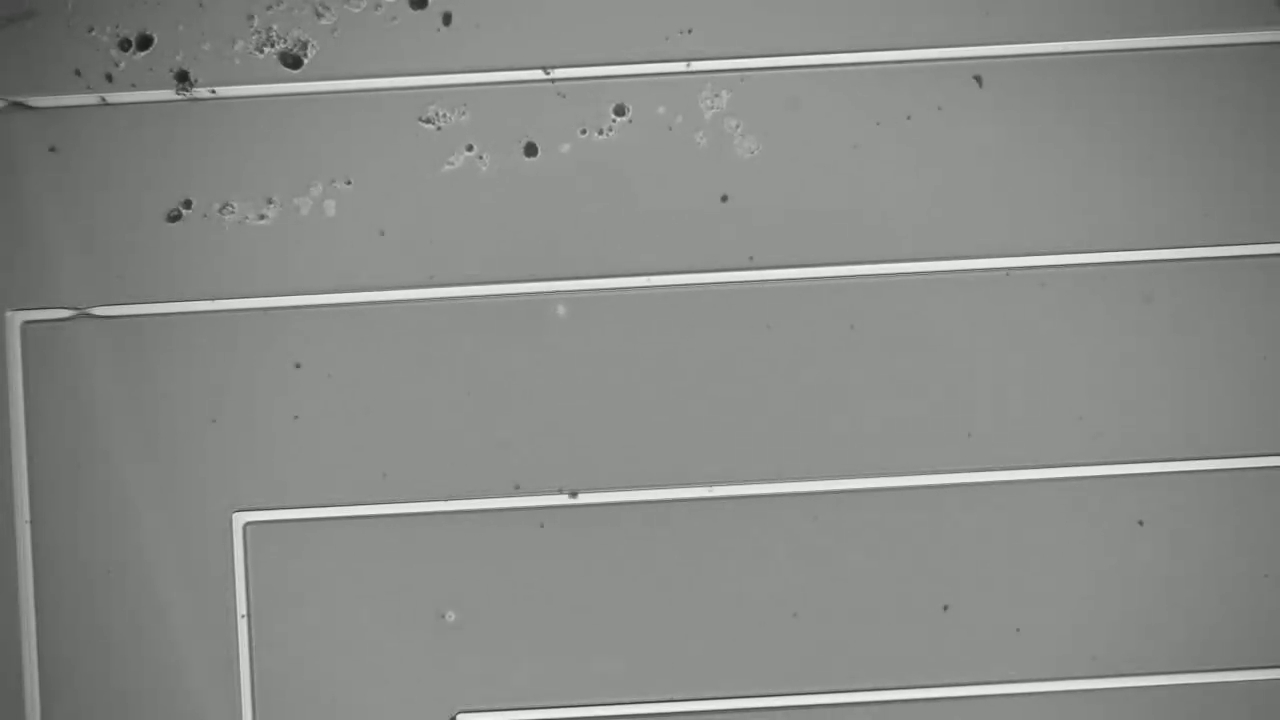edge_bite: (60, 289, 110, 331), (1, 90, 46, 127)
